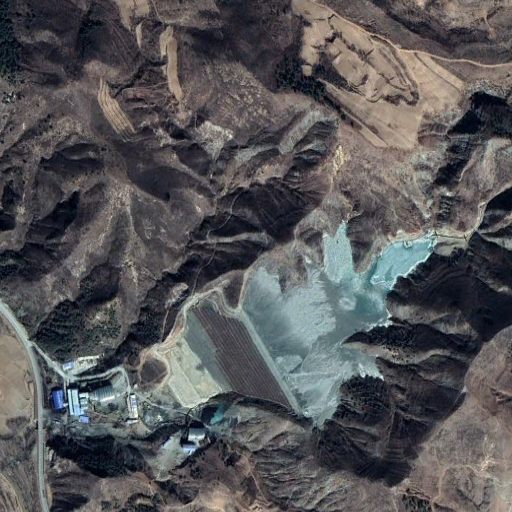tp: (183, 219, 433, 420)
